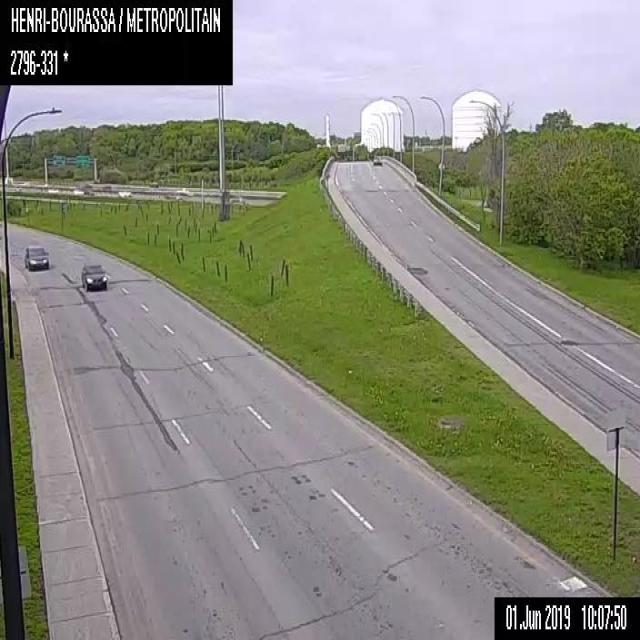vehicle: (81, 262, 107, 290), (24, 244, 48, 270), (174, 187, 190, 195), (118, 188, 130, 195), (373, 155, 381, 164)
